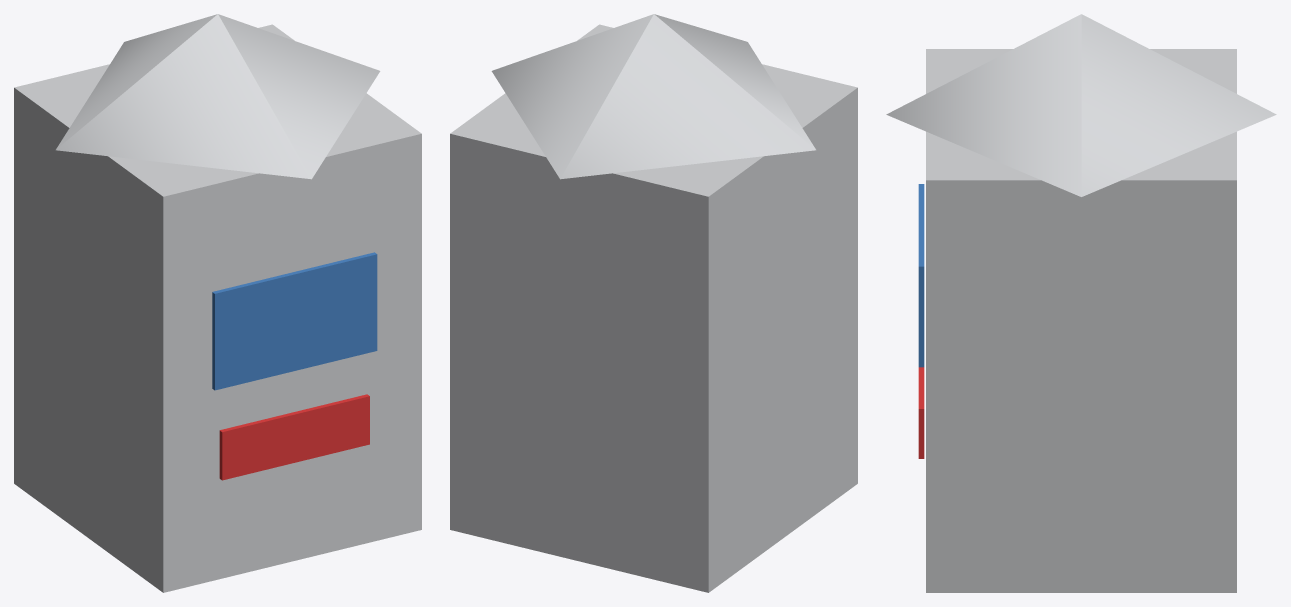
The model's file is milk.glb.
The picture shows the model from 3 angles, left to right: view 1: azimuth 30°, elevation 25°; view 2: azimuth 150°, elevation 25°; view 3: azimuth 270°, elevation 25°; orthographic projection. The views are drawn at different scales.
Visible parts, largest first — view 1: milk; view 2: milk; view 3: milk.
Part boxes in pixels (box(x1,y1,x2,y2)): milk: box(14, 14, 421, 592); milk: box(450, 14, 857, 592); milk: box(886, 14, 1276, 592).
Size of the model in its own units: 0.704 by 1.02 by 0.704.
